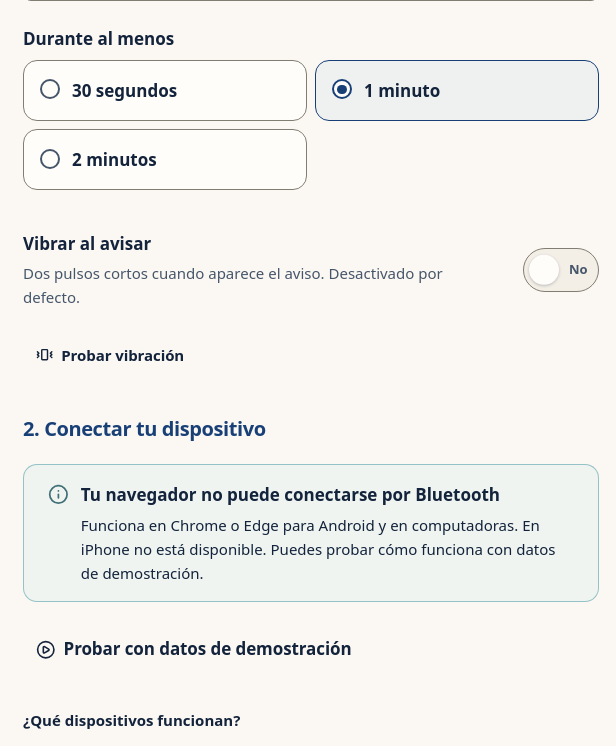
Monitor de pulso › vibración › «Probar vibración» vibra y explica qué revisar si no se siente
The image size is (616, 746).
(page scrolled)
What coordinates should you click on to do the following:
click the button "Probar vibración"
I would click on:
 (110, 355)
Its box is top-left (23, 333), bottom-right (197, 377).
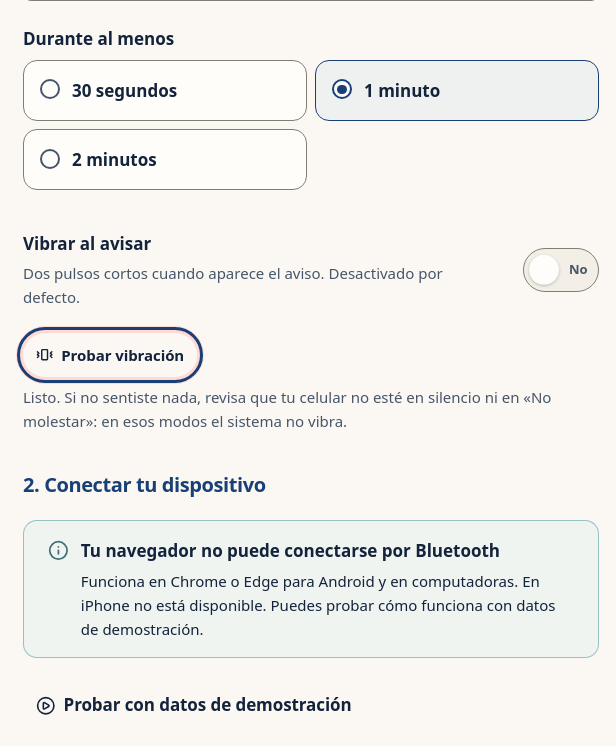
Check: the text "revisa que tu celular no esté en silencio" is shown, box top-left (23, 387), bottom-right (551, 431)
